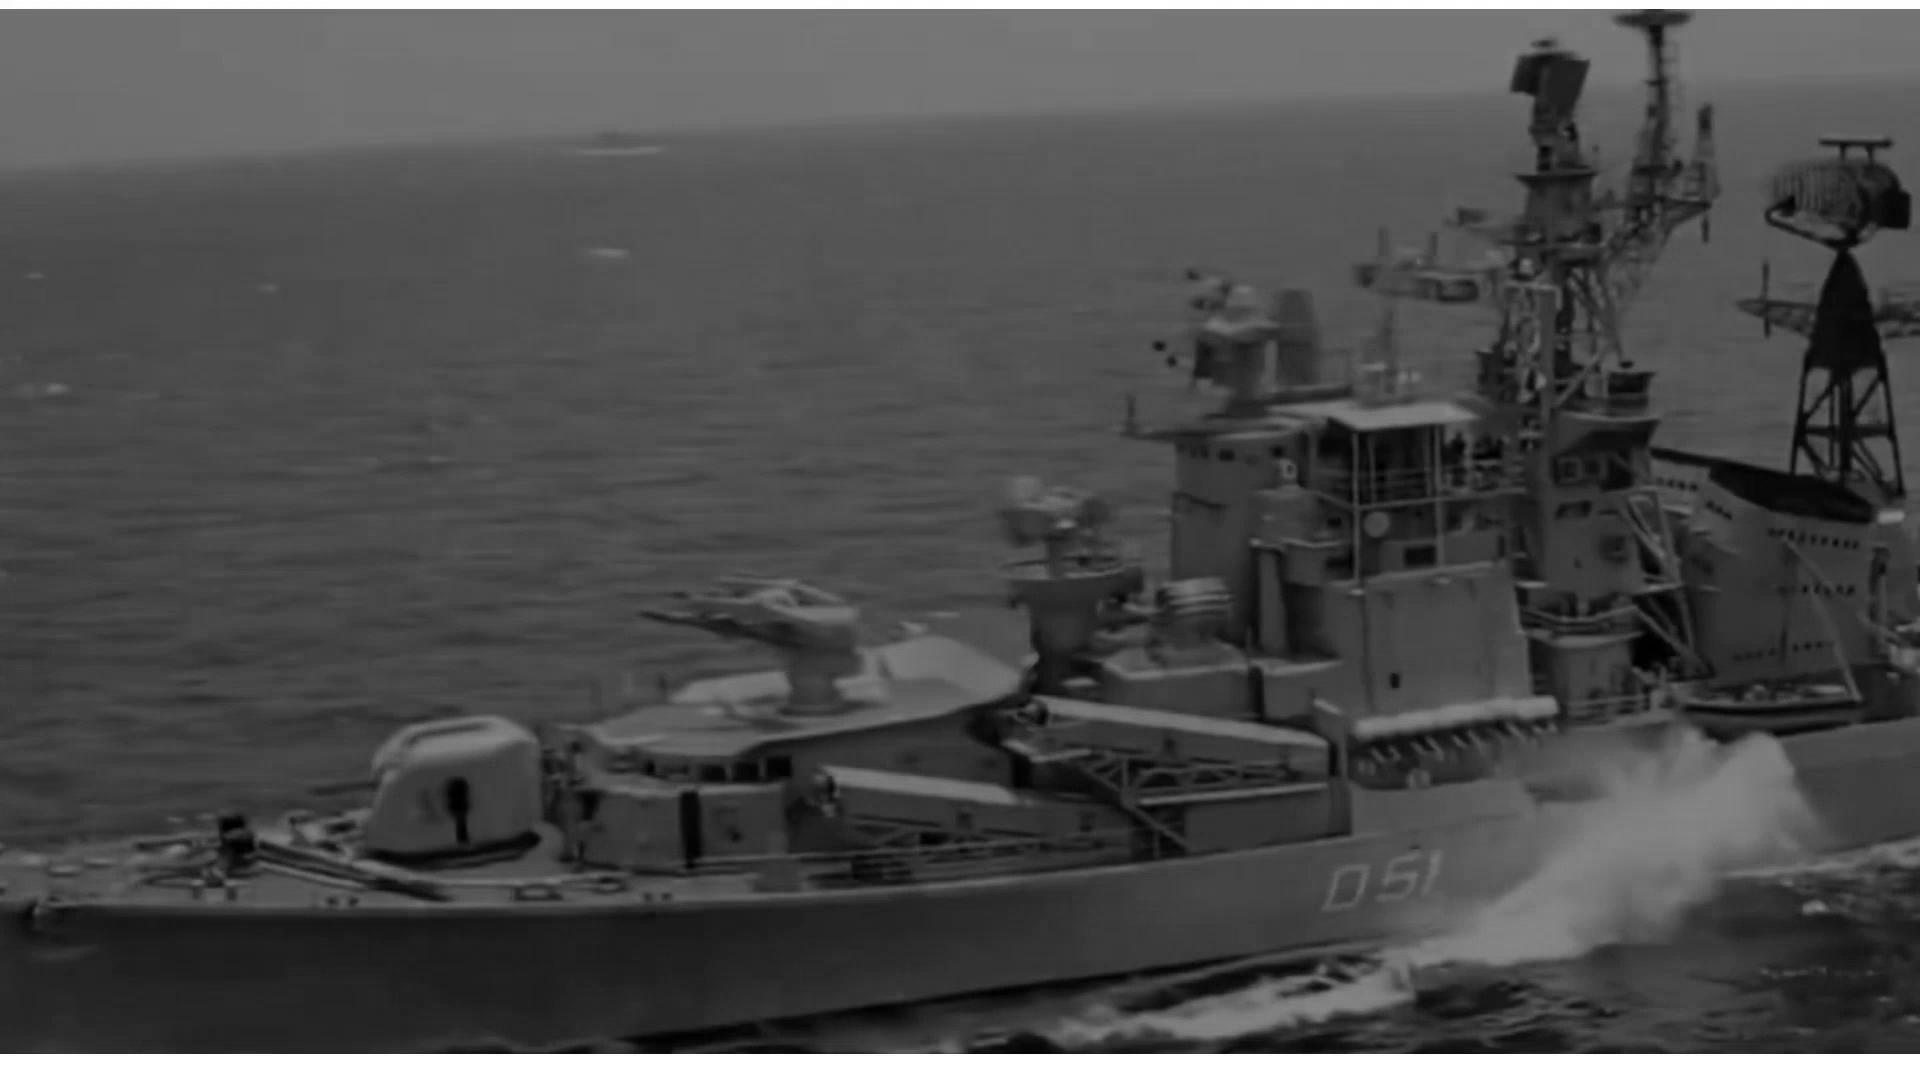OCR: (1313, 849, 1452, 934)
